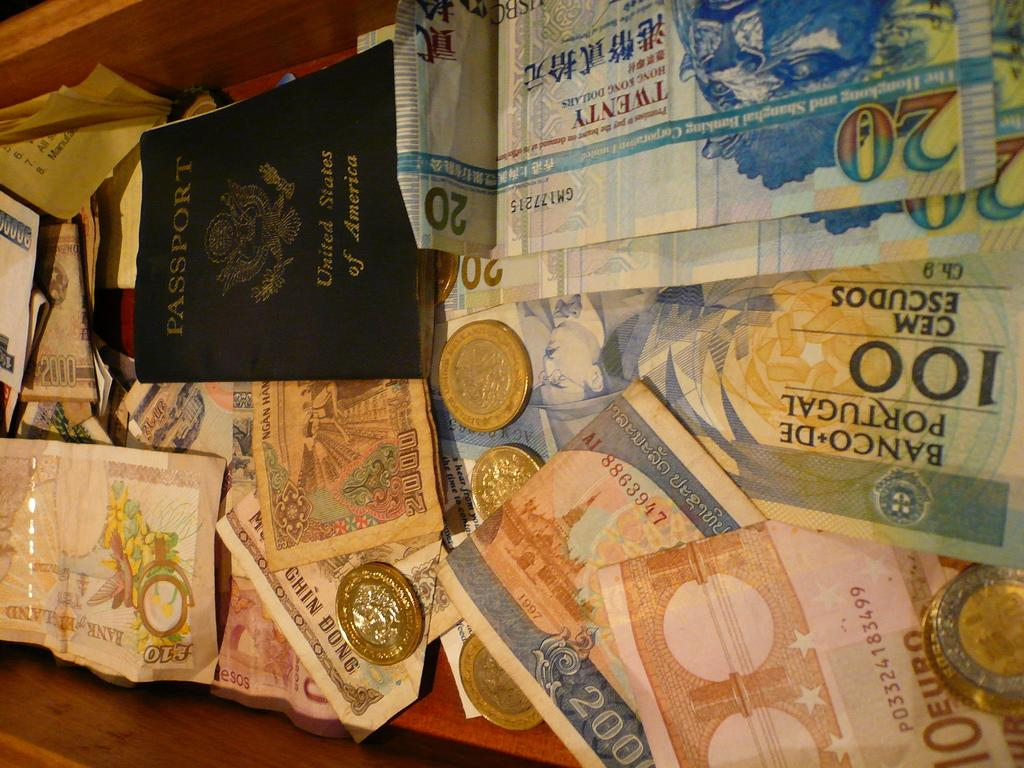book: (136, 40, 437, 381)
